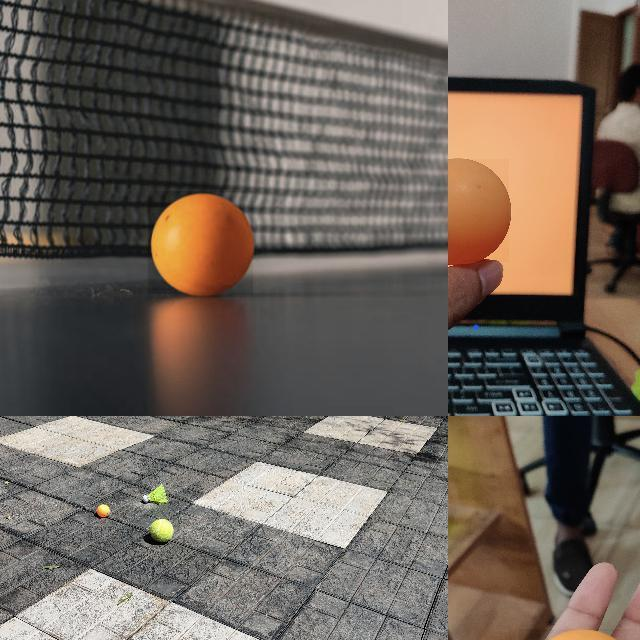ping-pong-ball: (148, 191, 254, 295), (448, 158, 510, 264), (96, 505, 110, 517)
